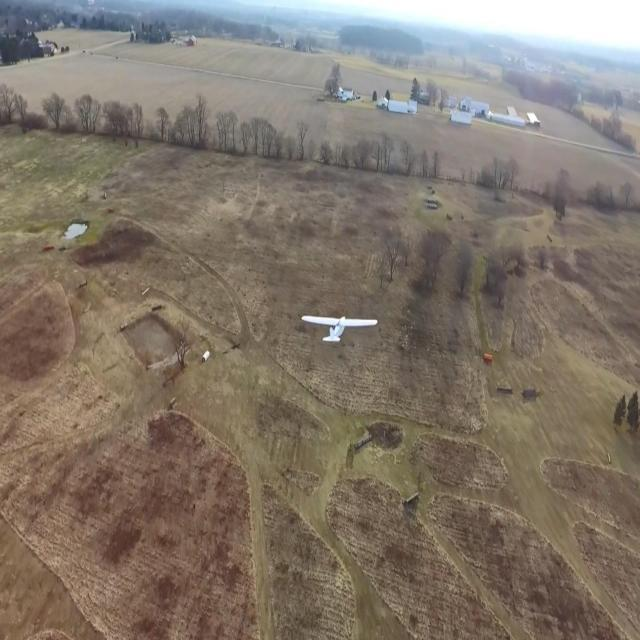UAV: (298, 301, 386, 368)
